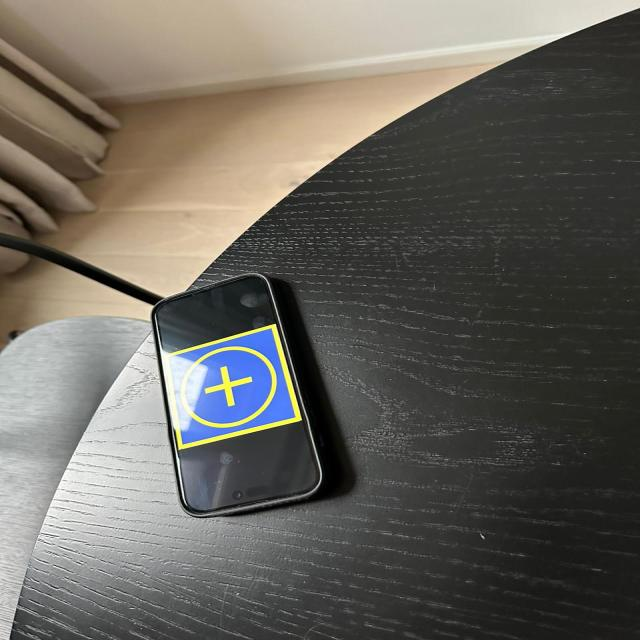Marker: (154, 323, 308, 451)
